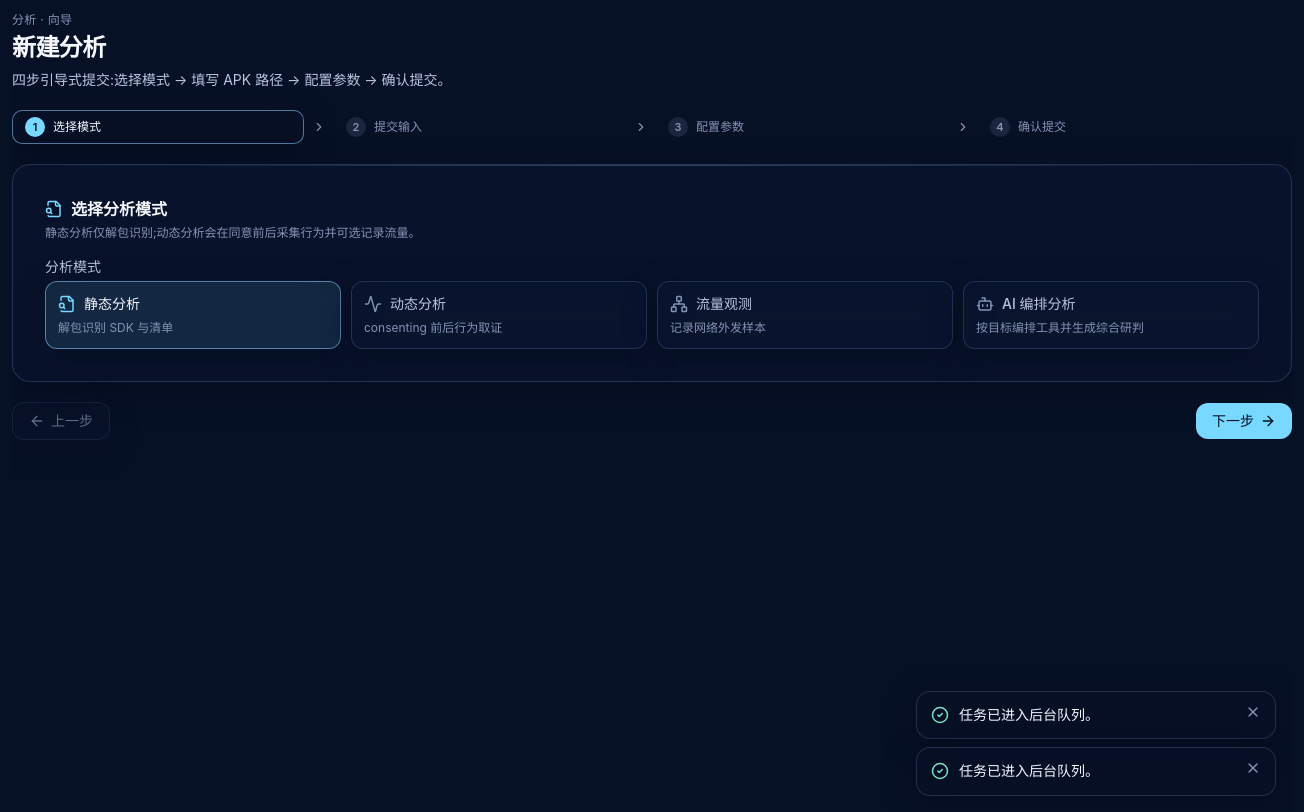
Test: NewAnalysis — 持久化任务提交 › 后端结构化校验错误原样展示且停留在向导
Click the button "下一步": [1244, 421] box [1196,403,1292,439]
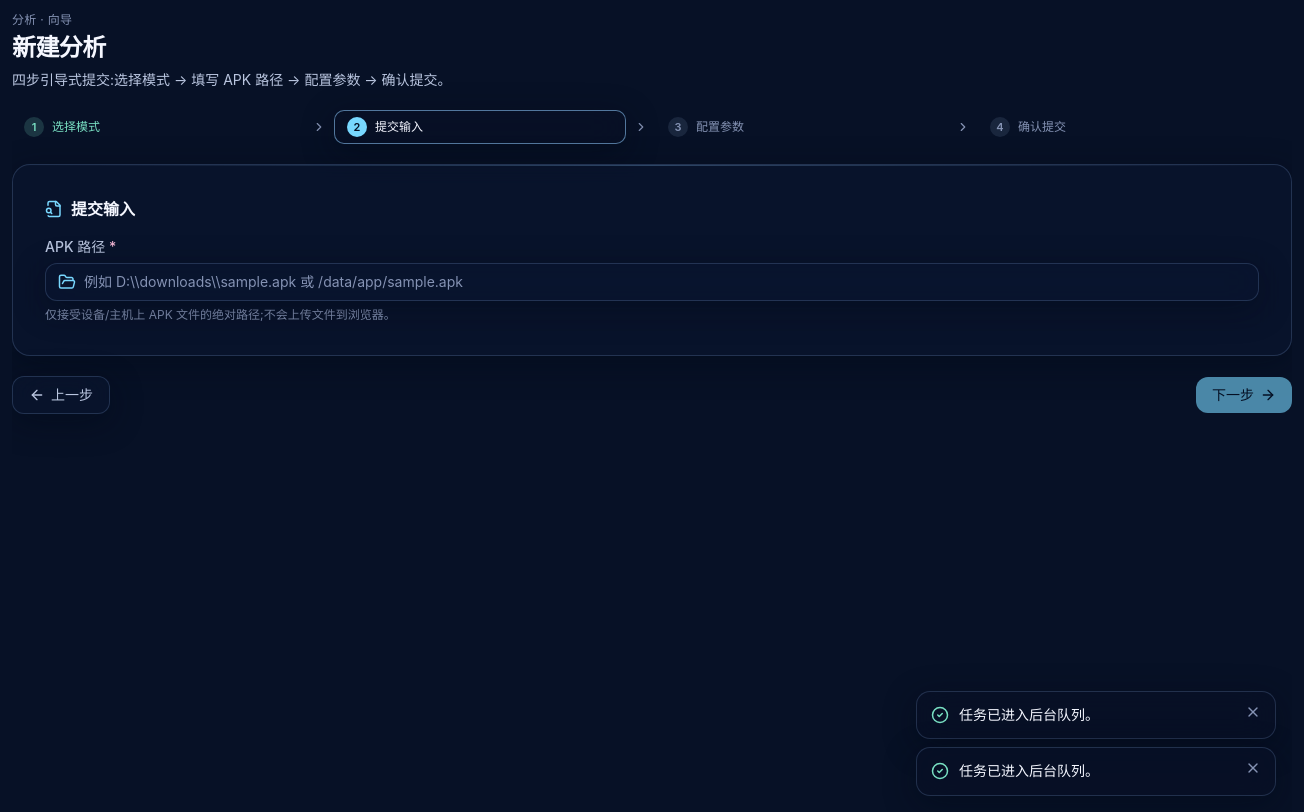
In the field labelled "APK 路径 *": [665, 282] box [84,272,1246,292], type "D:/unauthorized/sample.apk"
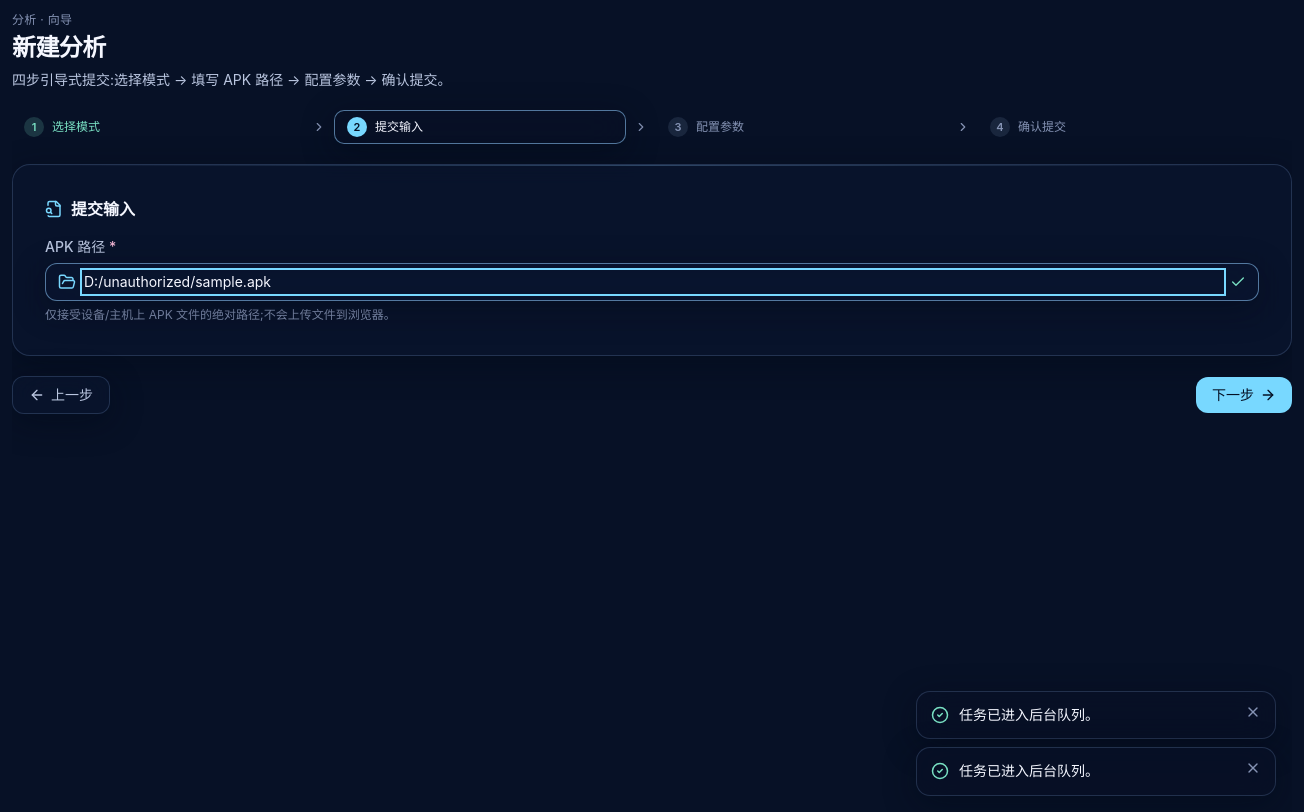
Click the button "下一步": [1244, 395] box [1196,377,1292,413]
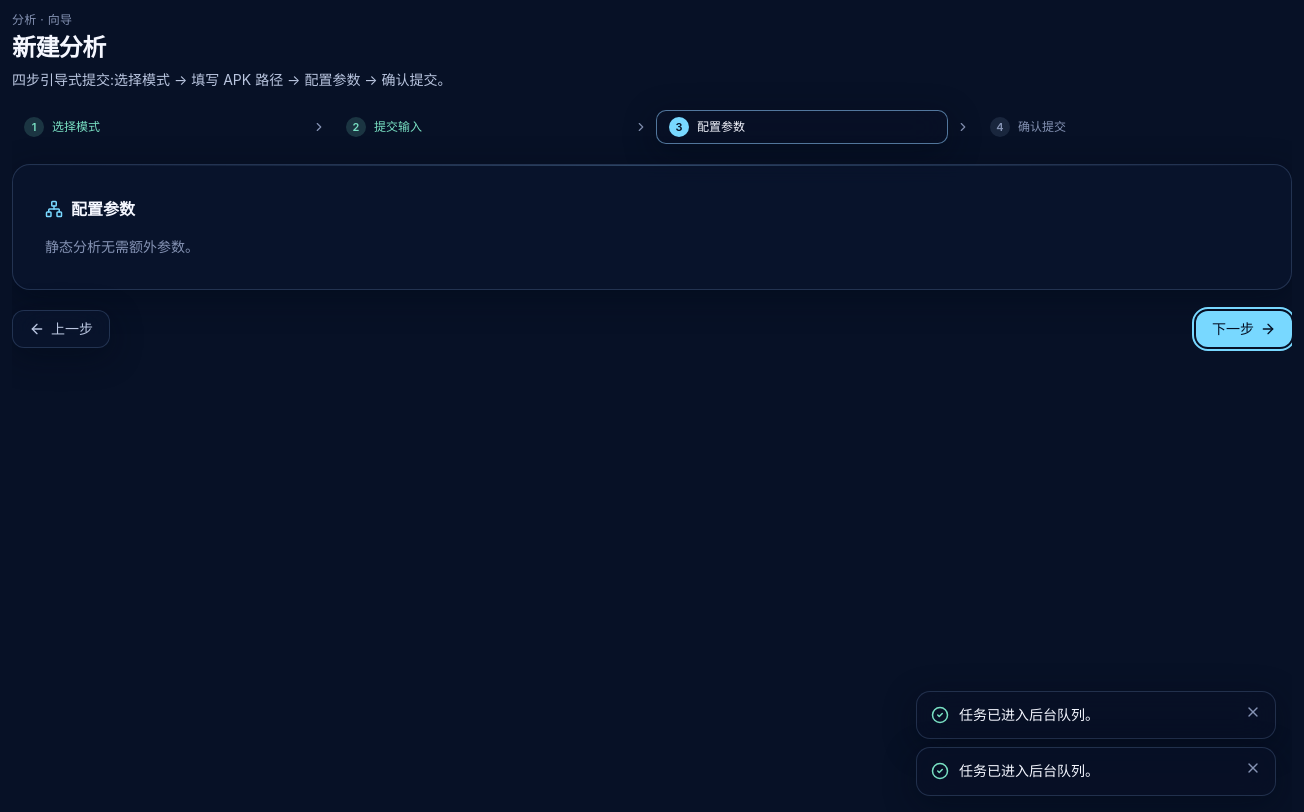
Click the button "下一步": [1244, 329] box [1196,311,1292,347]
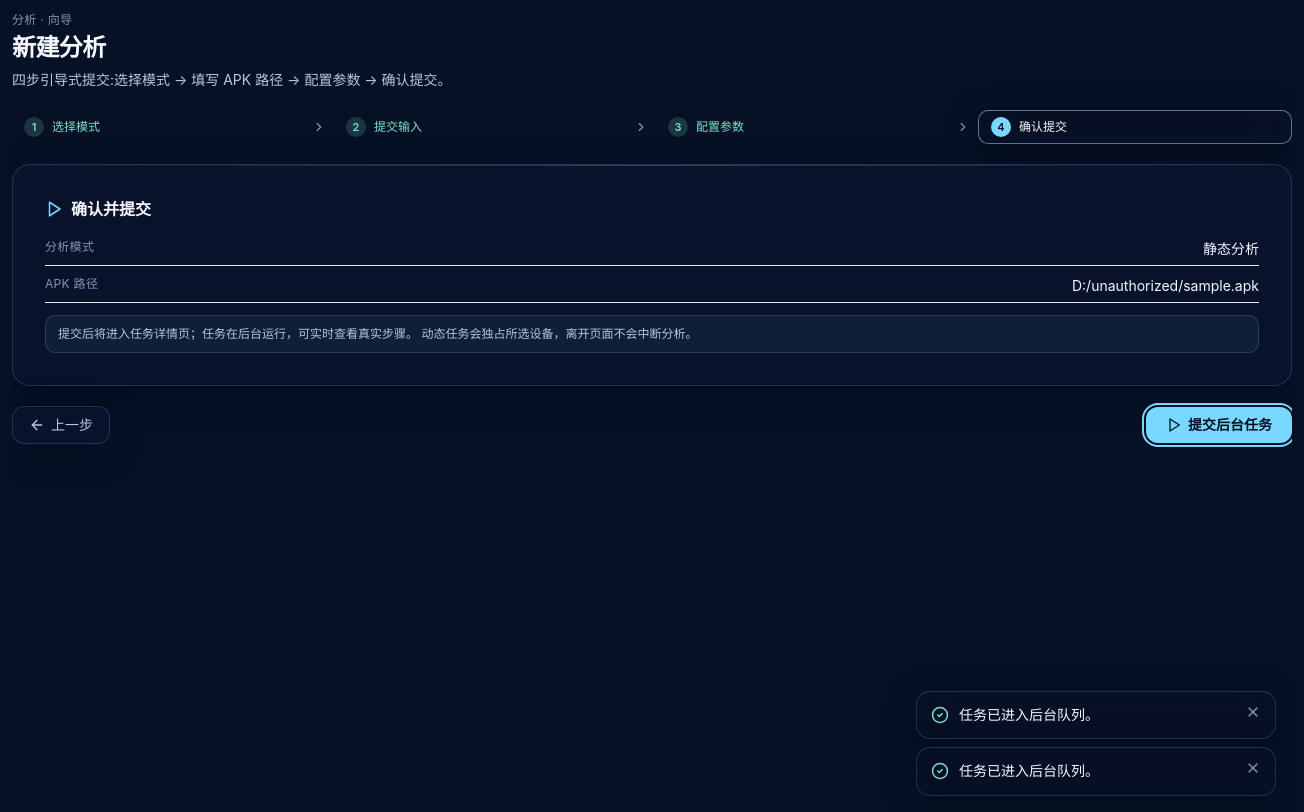
Click the button "提交后台任务": [1219, 424] box [1146,406,1292,442]
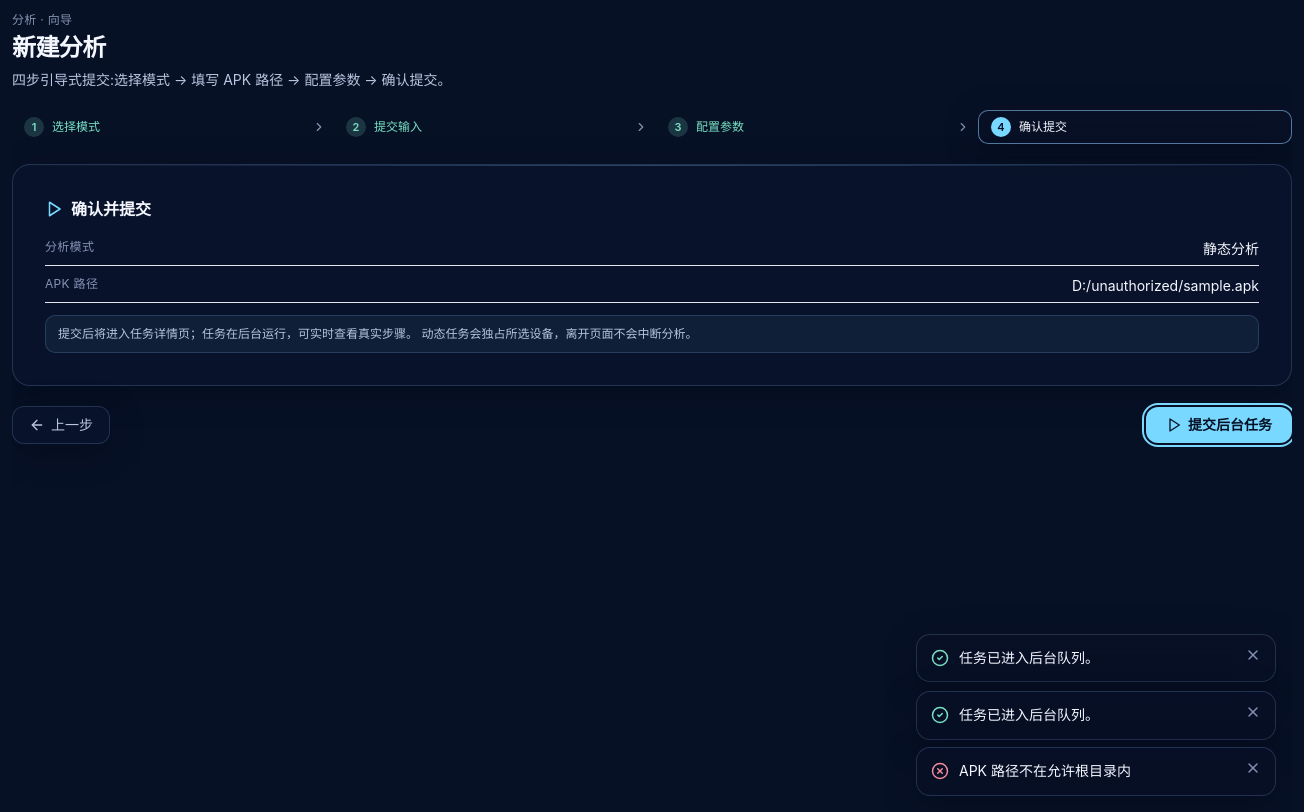
Expected: the text "APK 路径不在允许根目录内" is shown, [959,762,1131,779]
